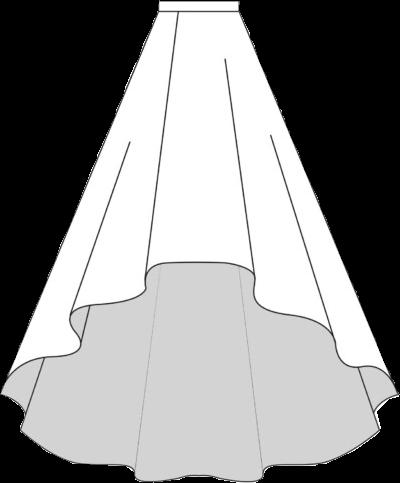Hemline: (0, 260, 398, 397)
Waistline: (156, 6, 242, 16), (155, 0, 242, 3)
